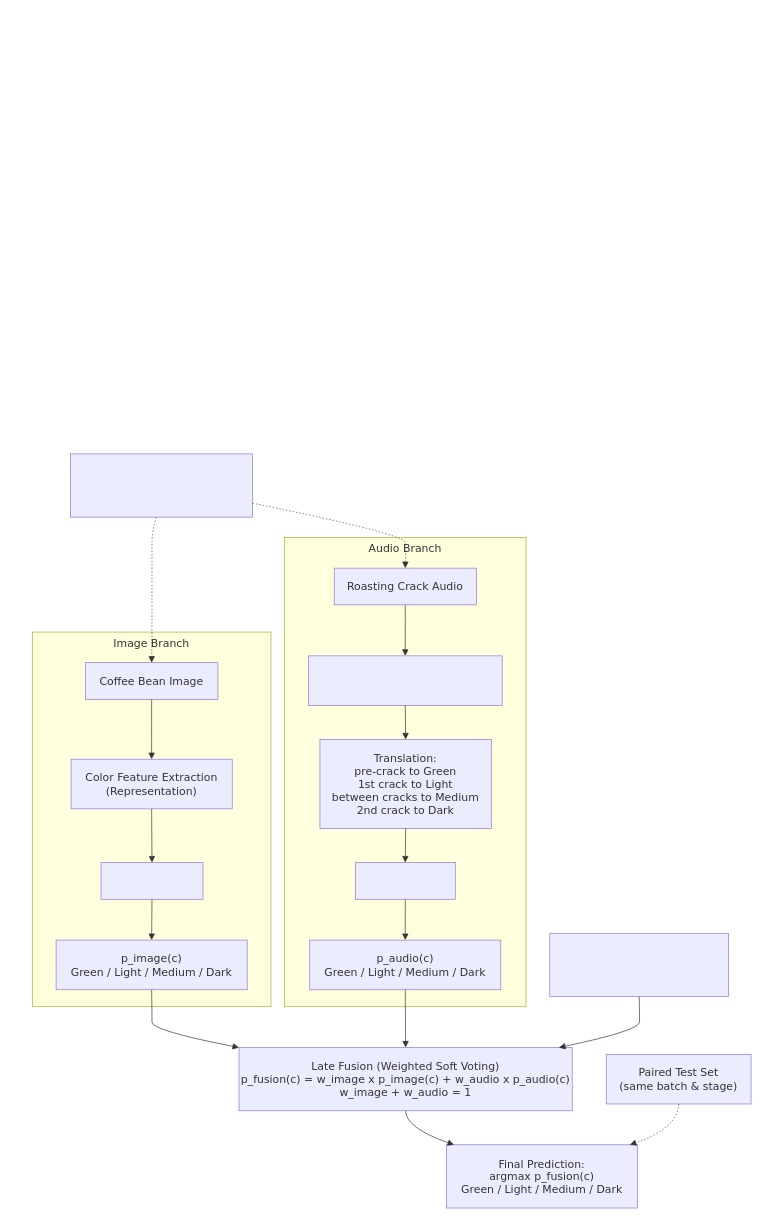
This 763x1220 diagram has some shape labels left out. Here are the shapes that lost their labels. From the top down, the centre of each, then its label:
At point (161, 485): "Alignment: Image-Audio Pairing by Same Batch & Roasting Stage".
At point (405, 680): "Crack Timing & Rate Extraction (Representation)".
At point (151, 880): "Image Model".
At point (405, 880): "Audio Model".
At point (639, 965): "Paired Validation Set: Optimize w_image, w_audio via best Macro F1".
